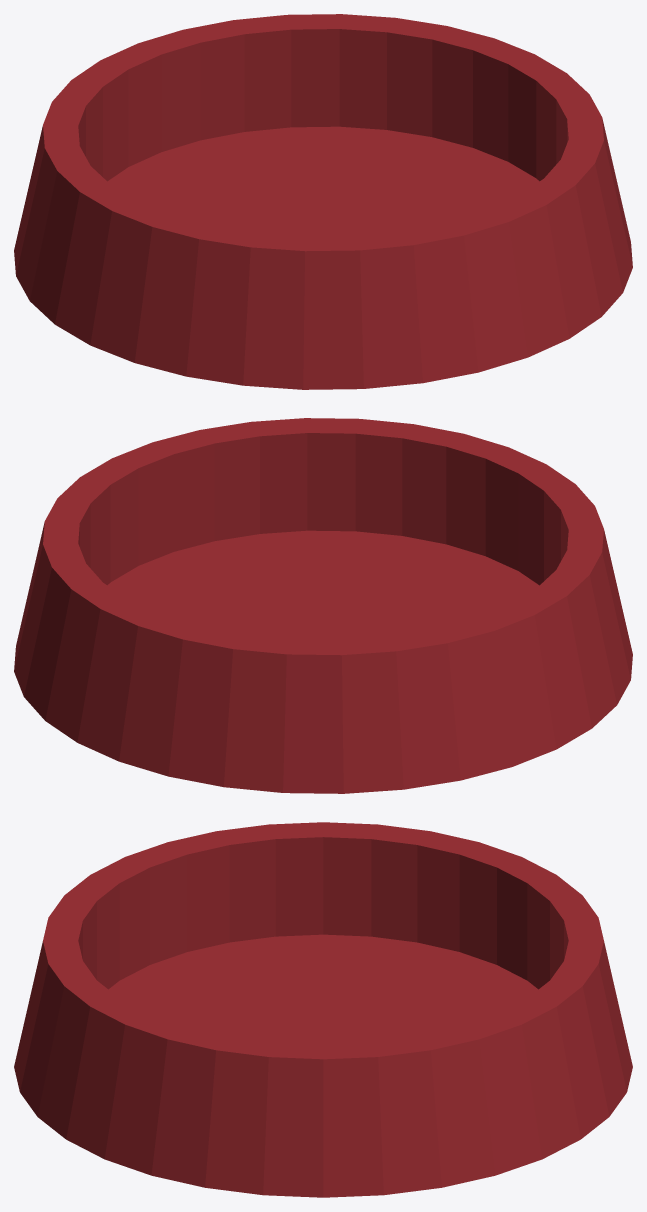
File: FoodBowl.fbx
The picture shows the model from 3 angles, top to bottom: view 1: azimuth 30°, elevation 25°; view 2: azimuth 150°, elevation 25°; view 3: azimuth 270°, elevation 25°; orthographic projection.
Visible parts, largest first — view 1: Bowl; view 2: Bowl; view 3: Bowl.
Boxes of the visible parts, x1,y1,x2,y2 form: Bowl: (14,14,632,389); Bowl: (14,418,632,793); Bowl: (14,822,632,1197).
Bounding box in the file's own units: 681 × 153 × 681.
